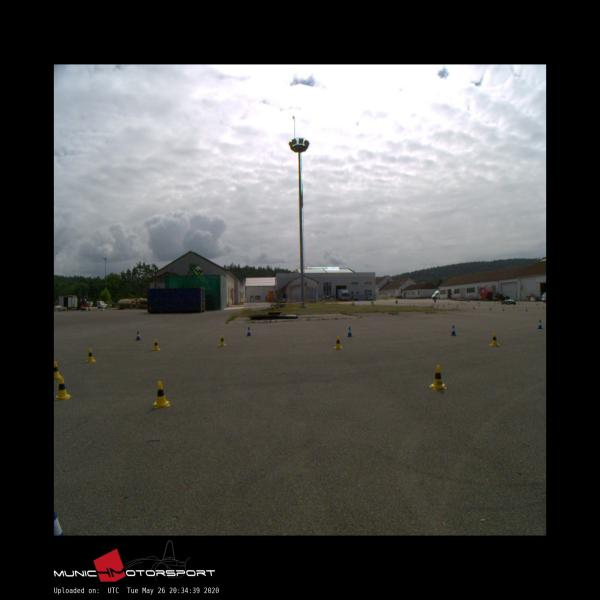blue_cone: (246, 326, 252, 336), (450, 325, 456, 335), (135, 331, 141, 340), (347, 326, 352, 336), (537, 319, 542, 328)
yellow_cone: (152, 382, 169, 408), (430, 364, 445, 390), (55, 376, 70, 400), (86, 348, 96, 362), (54, 361, 61, 379), (490, 332, 498, 346), (333, 336, 342, 348), (152, 338, 160, 350), (218, 335, 226, 345)
